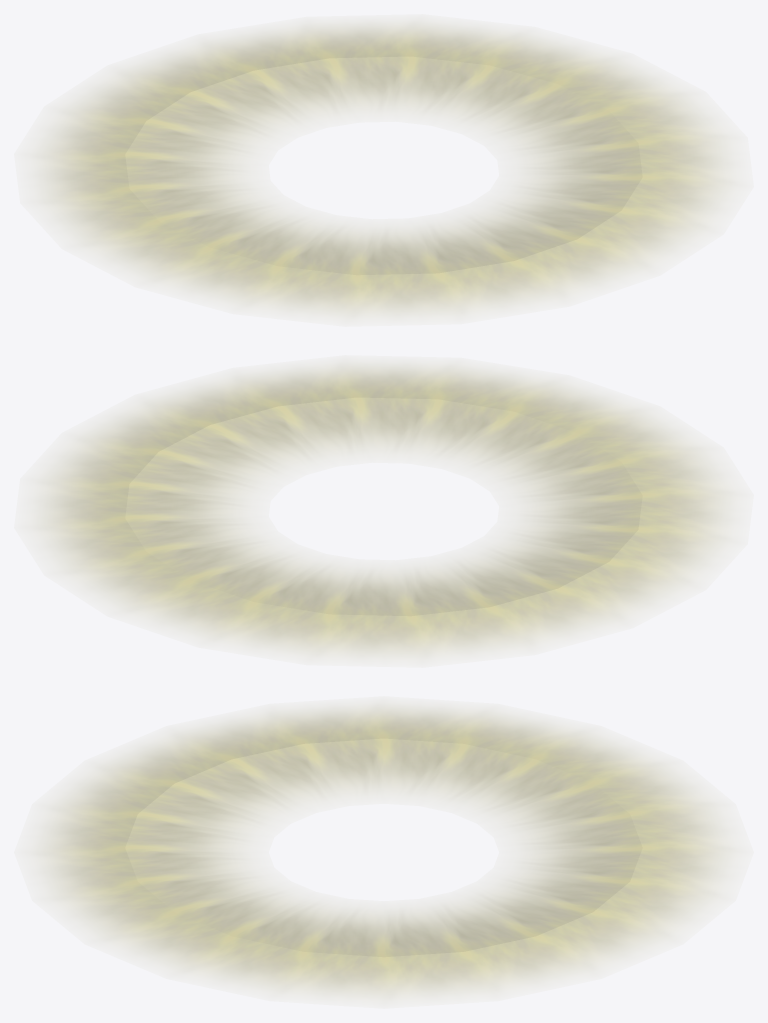
The model's file is pm-mist-02.glb.
3 renders of one model, top to bottom at view 1: azimuth 30°, elevation 25°; view 2: azimuth 150°, elevation 25°; view 3: azimuth 270°, elevation 25°, orthographic.
Visible parts, largest first — view 1: Mist02_Art; view 2: Mist02_Art; view 3: Mist02_Art.
Part boxes in pixels (box(x1,y1,x2,y2)): Mist02_Art: box(36, 23, 731, 316); Mist02_Art: box(36, 364, 731, 657); Mist02_Art: box(36, 705, 731, 998).
Bounding box in the file's own units: 2.4 × 0.0164 × 2.4.
1 material, 1 textured.
